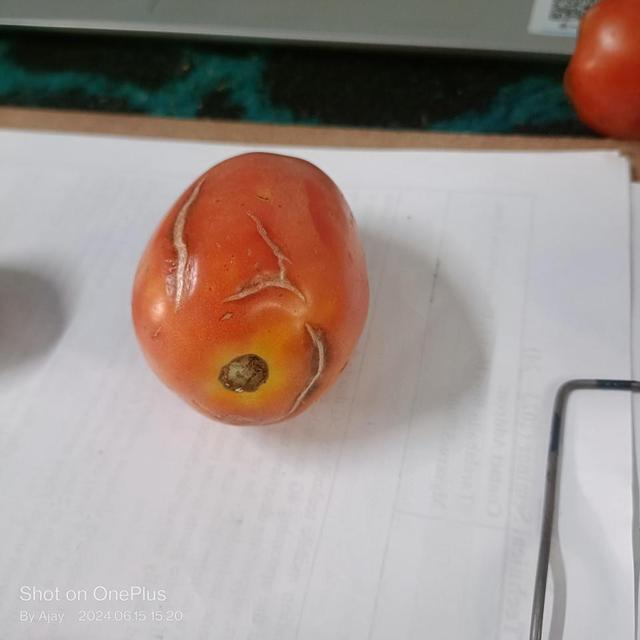Cracking Fruit: (111, 138, 221, 222)
